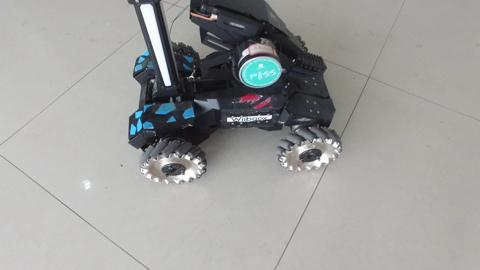chariot: (95, 13, 340, 177)
